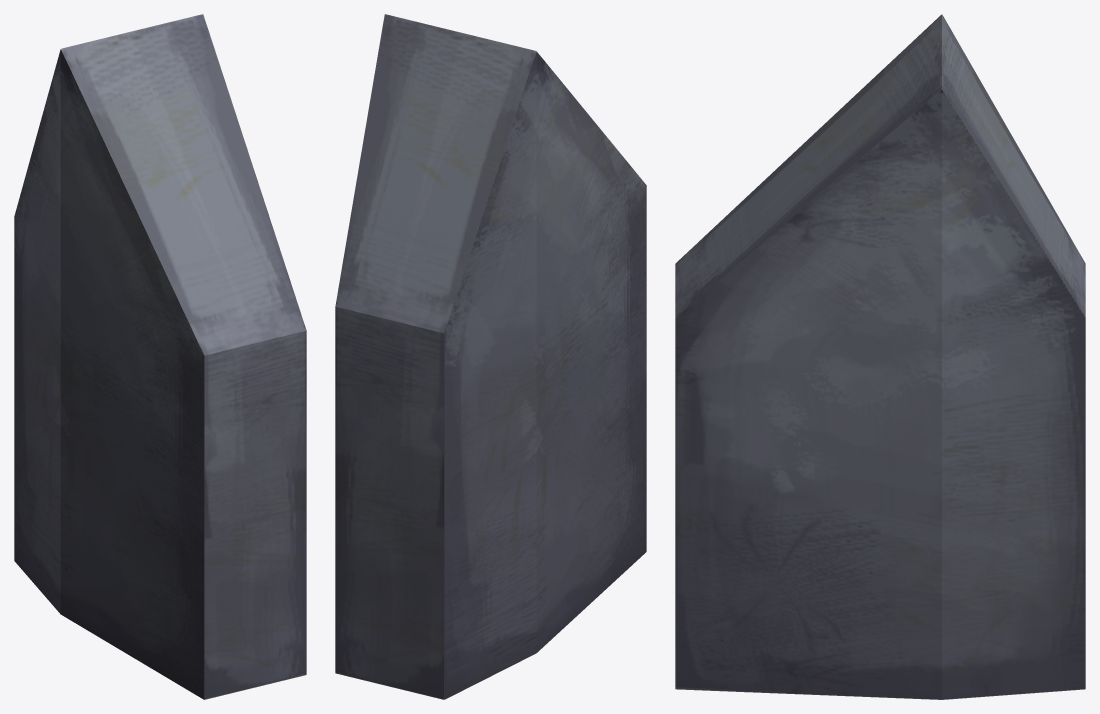
Rendered from Grave_church03.fbx.
The picture shows the model from 3 angles, left to right: view 1: azimuth 30°, elevation 25°; view 2: azimuth 150°, elevation 25°; view 3: azimuth 270°, elevation 25°; orthographic projection. The views are drawn at different scales.
Visible parts, largest first — view 1: Grave_church03; view 2: Grave_church03; view 3: Grave_church03.
Part boxes in pixels (box(x1,y1,x2,y2)): Grave_church03: box(14, 14, 306, 699); Grave_church03: box(335, 14, 646, 699); Grave_church03: box(675, 14, 1085, 699).
Bounding box in the file's own units: 0.1879 × 0.7127 × 0.4338.
1 material, 1 textured.
